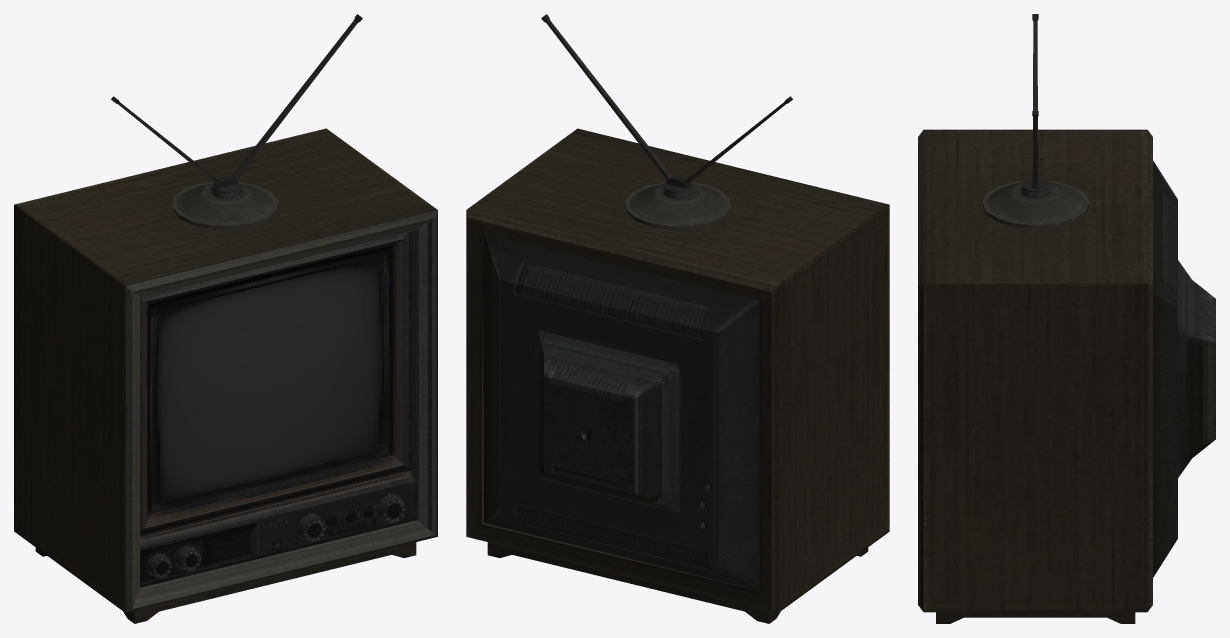
The picture shows the model from 3 angles, left to right: view 1: azimuth 30°, elevation 25°; view 2: azimuth 150°, elevation 25°; view 3: azimuth 270°, elevation 25°; orthographic projection.
Visible parts, largest first — view 1: tv_mp_1_2; view 2: tv_mp_1_2; view 3: tv_mp_1_2.
Boxes of the visible parts, box(x1,y1,x2,y2) form: tv_mp_1_2: box(14, 14, 437, 623); tv_mp_1_2: box(466, 14, 889, 623); tv_mp_1_2: box(918, 14, 1215, 623).
Bounding box in the file's own units: 0.51 × 0.7893 × 0.4183.
Materials: 1 (1 with a texture image).
